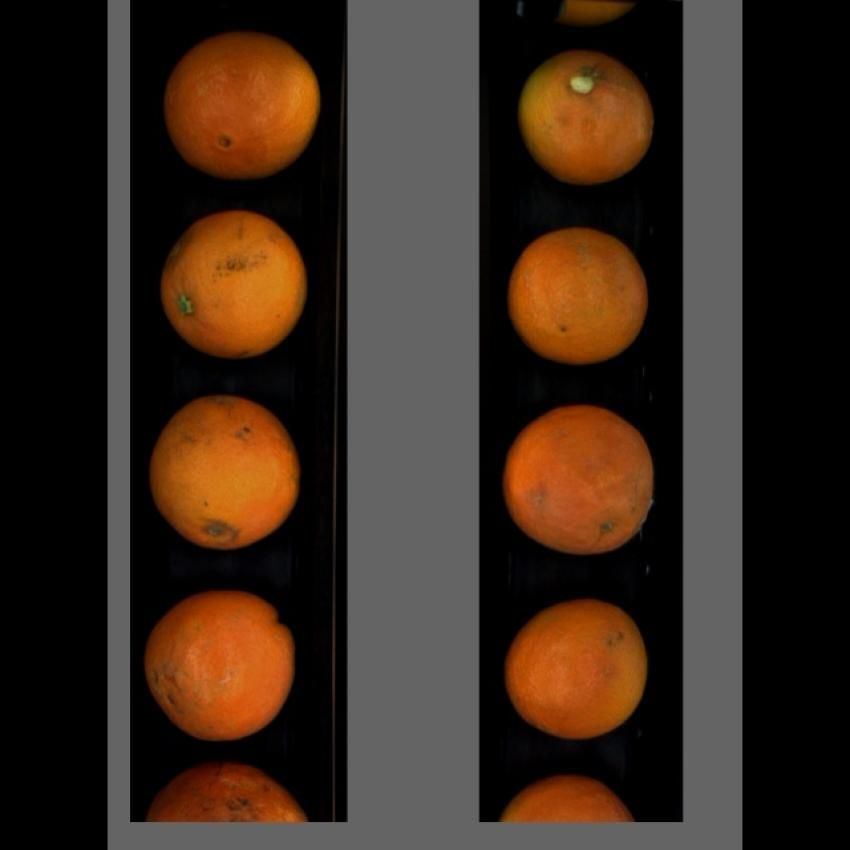Buen estado: (158, 24, 325, 179)
Mal estado: (499, 395, 662, 563), (140, 587, 310, 741), (151, 391, 303, 560), (159, 202, 312, 364), (510, 41, 662, 192), (503, 221, 654, 369), (502, 594, 653, 739), (142, 757, 314, 821), (503, 768, 640, 820)
